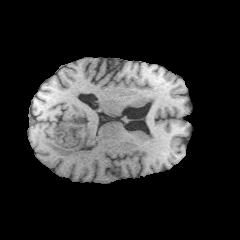glioma: (44, 132, 92, 156)
